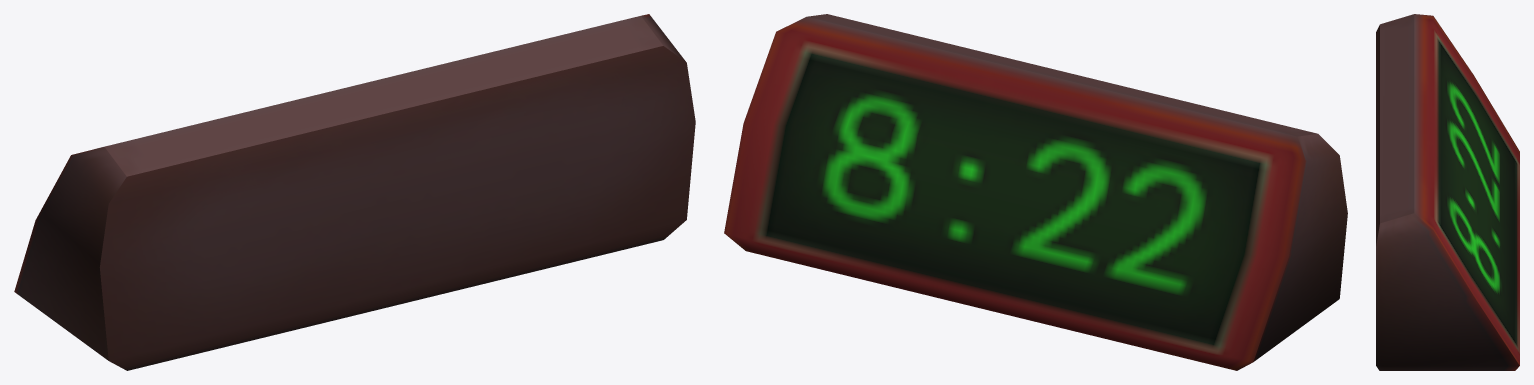
The model's file is TouKuiZheJia_01_zhong_02.FBX.
The picture shows the model from 3 angles, left to right: view 1: azimuth 30°, elevation 25°; view 2: azimuth 150°, elevation 25°; view 3: azimuth 270°, elevation 25°; orthographic projection. The views are drawn at different scales.
Visible parts, largest first — view 1: TouKuiZheJia_zhong_02; view 2: TouKuiZheJia_zhong_02; view 3: TouKuiZheJia_zhong_02.
Boxes of the visible parts, x1=… form: TouKuiZheJia_zhong_02: x1=14, y1=14, x2=695, y2=370; TouKuiZheJia_zhong_02: x1=724, y1=14, x2=1347, y2=370; TouKuiZheJia_zhong_02: x1=1376, y1=14, x2=1519, y2=370.
Bounding box in the file's own units: 105 × 35.07 × 28.93.
